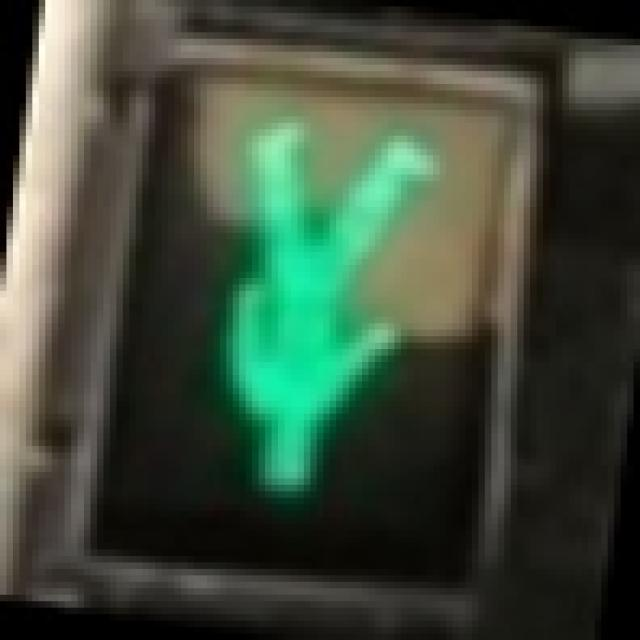geen-crossing: (136, 84, 485, 543)
